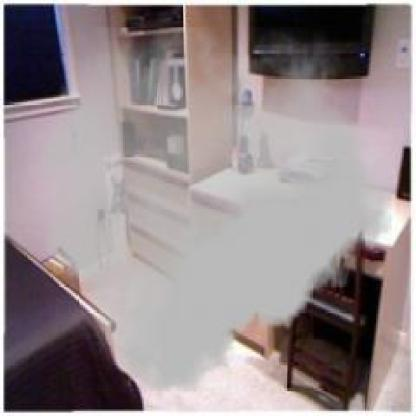Smoke: (39, 26, 393, 392)
